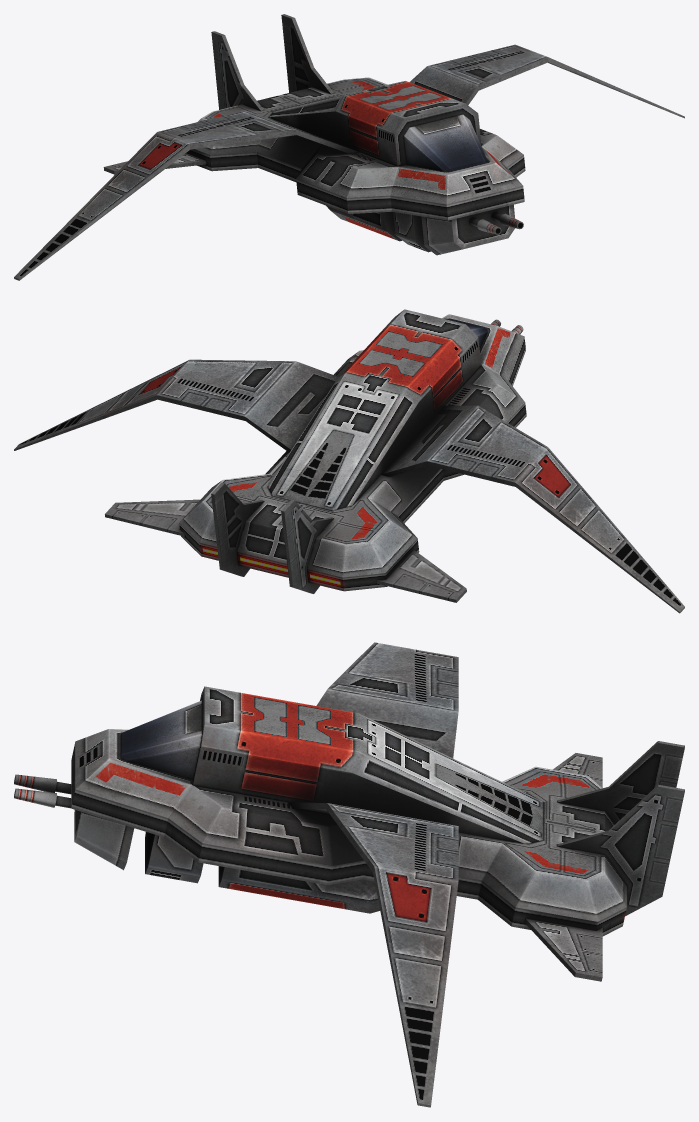
File: gunship_red.fbx
3 renders of one model, top to bottom at view 1: azimuth 30°, elevation 25°; view 2: azimuth 150°, elevation 25°; view 3: azimuth 270°, elevation 25°, orthographic. The views are drawn at different scales.
Parts seen in each view (by area): view 1: Gun_Ship; view 2: Gun_Ship; view 3: Gun_Ship.
Part boxes in pixels (x1,y1,x2,y2): Gun_Ship: [14, 14, 684, 280]; Gun_Ship: [14, 309, 684, 613]; Gun_Ship: [14, 642, 684, 1107].
Bounding box in the file's own units: 401 × 88.06 × 273.
